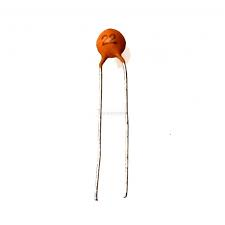ceramic capacitor: (60, 11, 161, 96)
